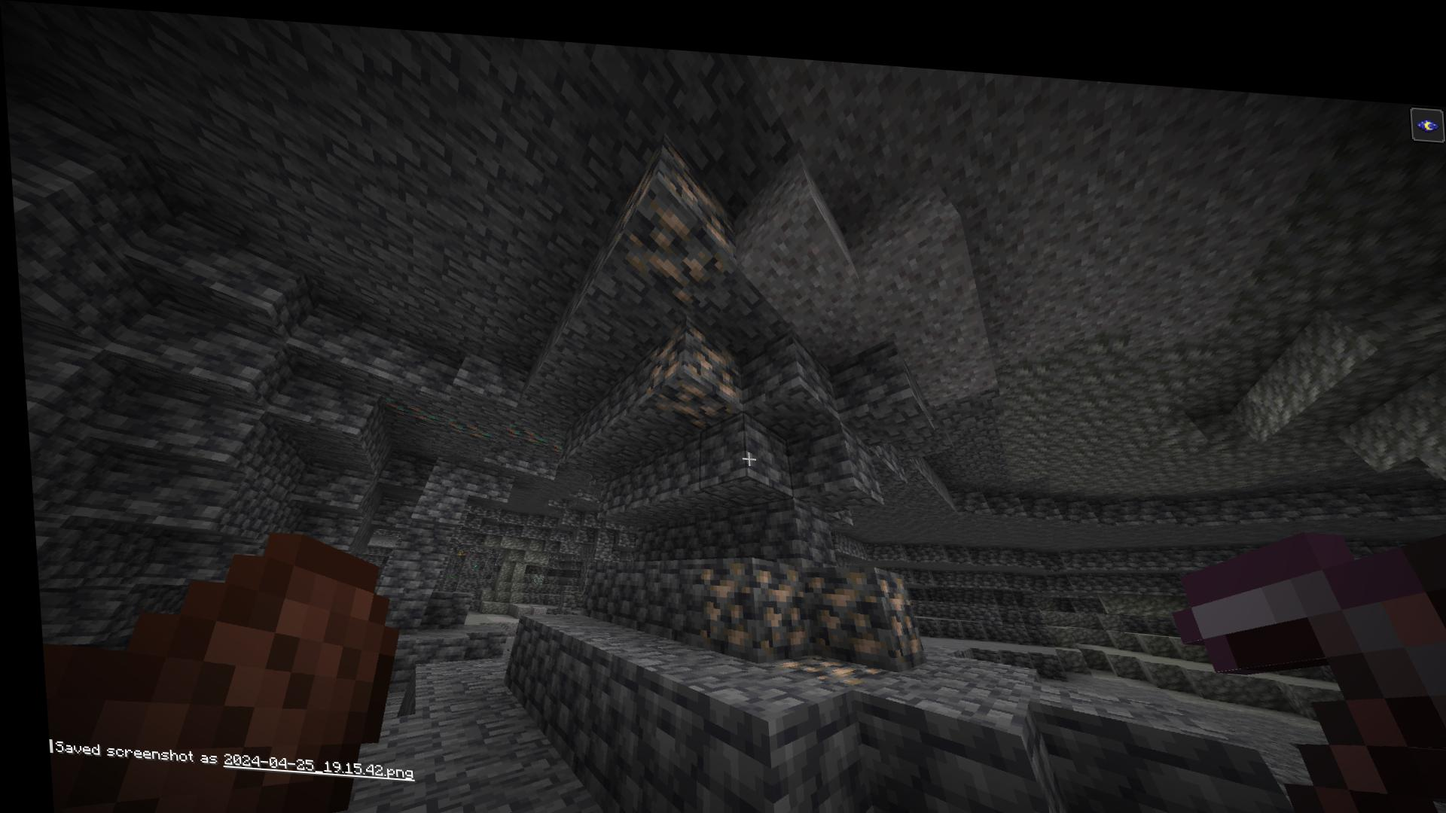iron ore: (609, 183, 732, 297), (797, 554, 880, 648), (687, 545, 753, 647), (746, 549, 804, 650), (680, 312, 743, 387), (872, 555, 918, 656), (764, 636, 882, 675), (647, 369, 734, 420), (638, 319, 685, 380)
